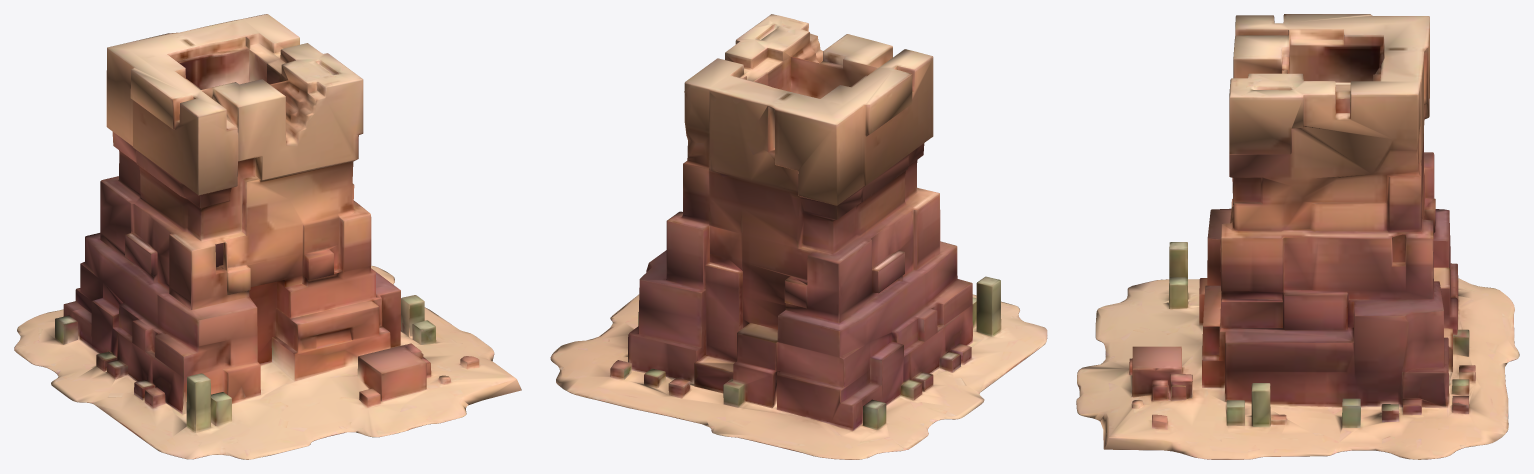
File: rock_b.glb
3 renders of one model, left to right at view 1: azimuth 30°, elevation 25°; view 2: azimuth 150°, elevation 25°; view 3: azimuth 270°, elevation 25°, orthographic. The views are drawn at different scales.
Parts seen in each view (by area): view 1: node_0; view 2: node_0; view 3: node_0.
Part boxes in pixels (x1,y1,x2,y2): node_0: (14, 14, 521, 459); node_0: (550, 14, 1047, 459); node_0: (1076, 14, 1519, 459).
Size of the model in its own units: 0.823 by 0.6231 by 0.8249.
1 material, 1 textured.
